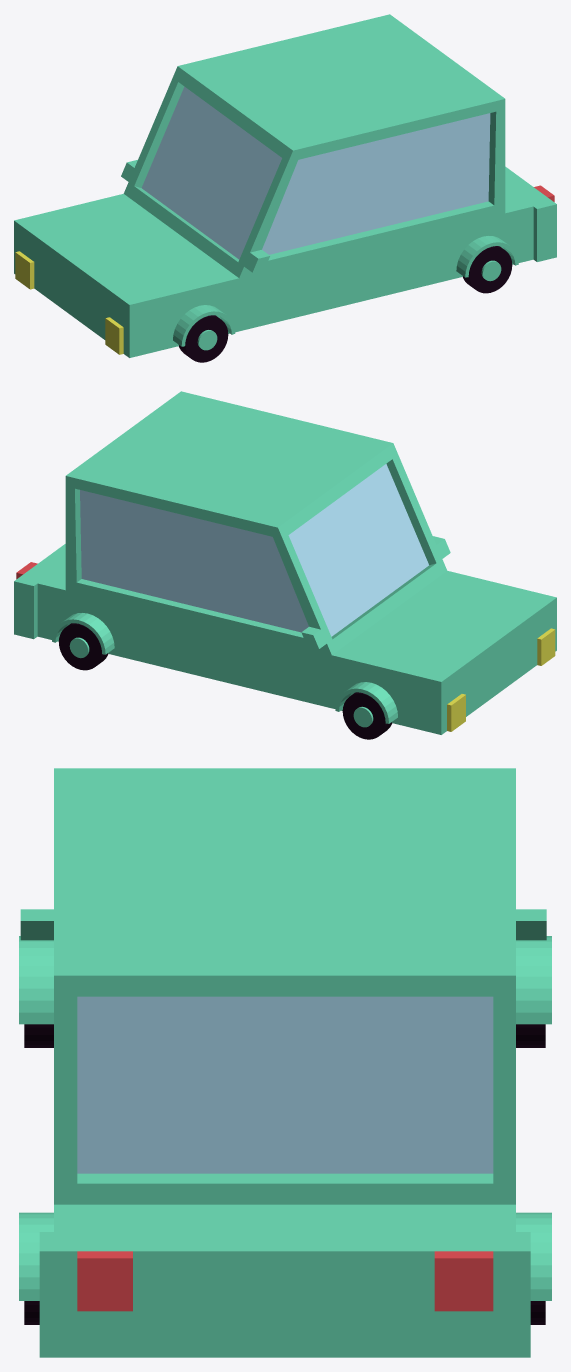
Rendered from CarGreen.fbx.
3 renders of one model, top to bottom at view 1: azimuth 30°, elevation 25°; view 2: azimuth 150°, elevation 25°; view 3: azimuth 270°, elevation 25°, orthographic. The views are drawn at different scales.
Visible parts, largest first — view 1: Cube, Cylinder, Cylinder.002, Cylinder.001; view 2: Cube, Cylinder, Cylinder.002, Cylinder.001; view 3: Cube, Cylinder.002, Cylinder.
Part boxes in pixels (left/top/right/bottom): Cube: left=14, top=14, right=556, bottom=357; Cylinder: left=179, top=246, right=512, bottom=362; Cylinder.002: left=173, top=236, right=518, bottom=346; Cylinder.001: left=197, top=260, right=501, bottom=350; Cube: left=14, top=391, right=556, bottom=734; Cylinder: left=59, top=623, right=392, bottom=739; Cylinder.002: left=52, top=613, right=397, bottom=723; Cylinder.001: left=69, top=637, right=373, bottom=727; Cube: left=20, top=768, right=546, bottom=1357; Cylinder.002: left=19, top=936, right=551, bottom=1300; Cylinder: left=24, top=1024, right=545, bottom=1324.
Size of the model in its own units: 570 by 229 by 302.
